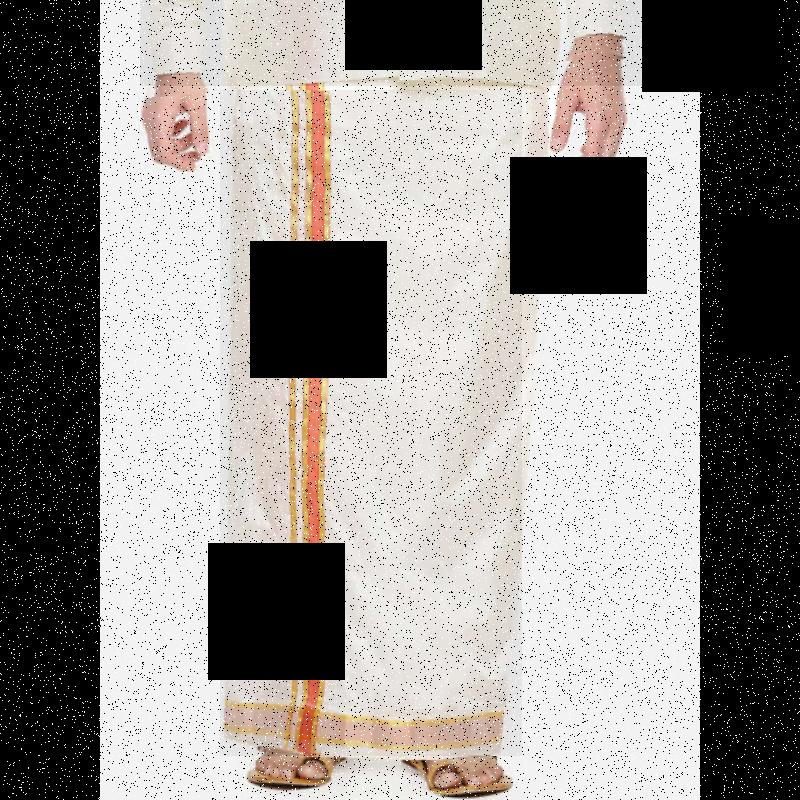Dhoti: (220, 90, 522, 756)
Shirt: (140, 0, 652, 86)
